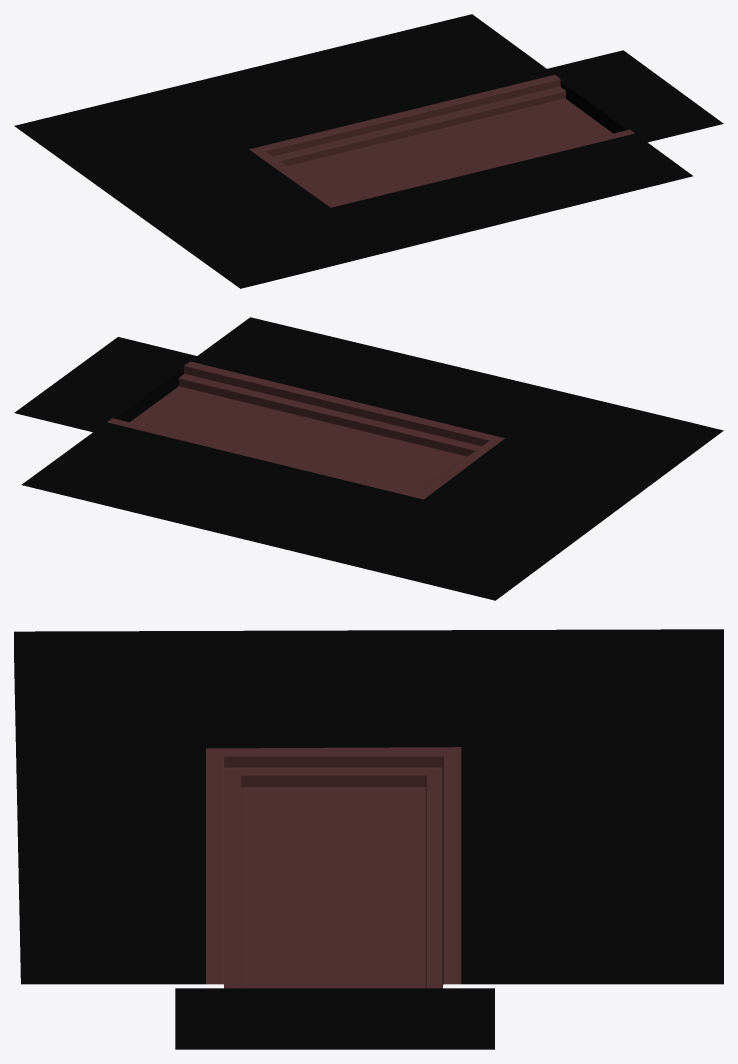
The model's file is podloga.fbx.
3 views of the same model, one above another, from view 1: azimuth 30°, elevation 25°; view 2: azimuth 150°, elevation 25°; view 3: azimuth 270°, elevation 25° (orthographic). The views are drawn at different scales.
Parts seen in each view (by area): view 1: floor, floor1, Plane.007; view 2: floor, floor1, Plane.007; view 3: floor, floor1, Plane.007.
Boxes of the visible parts, box(x1,y1,x2,y2) form: floor: box(14, 14, 693, 288); floor1: box(249, 74, 634, 207); Plane.007: box(547, 50, 723, 142); floor: box(21, 317, 723, 600); floor1: box(107, 361, 504, 499); Plane.007: box(14, 337, 196, 432); floor: box(14, 629, 723, 984); floor1: box(206, 747, 461, 988); Plane.007: box(175, 988, 494, 1049).
Size of the model in its own units: 1904 by 54.64 by 1372.
2 materials, 1 textured.
